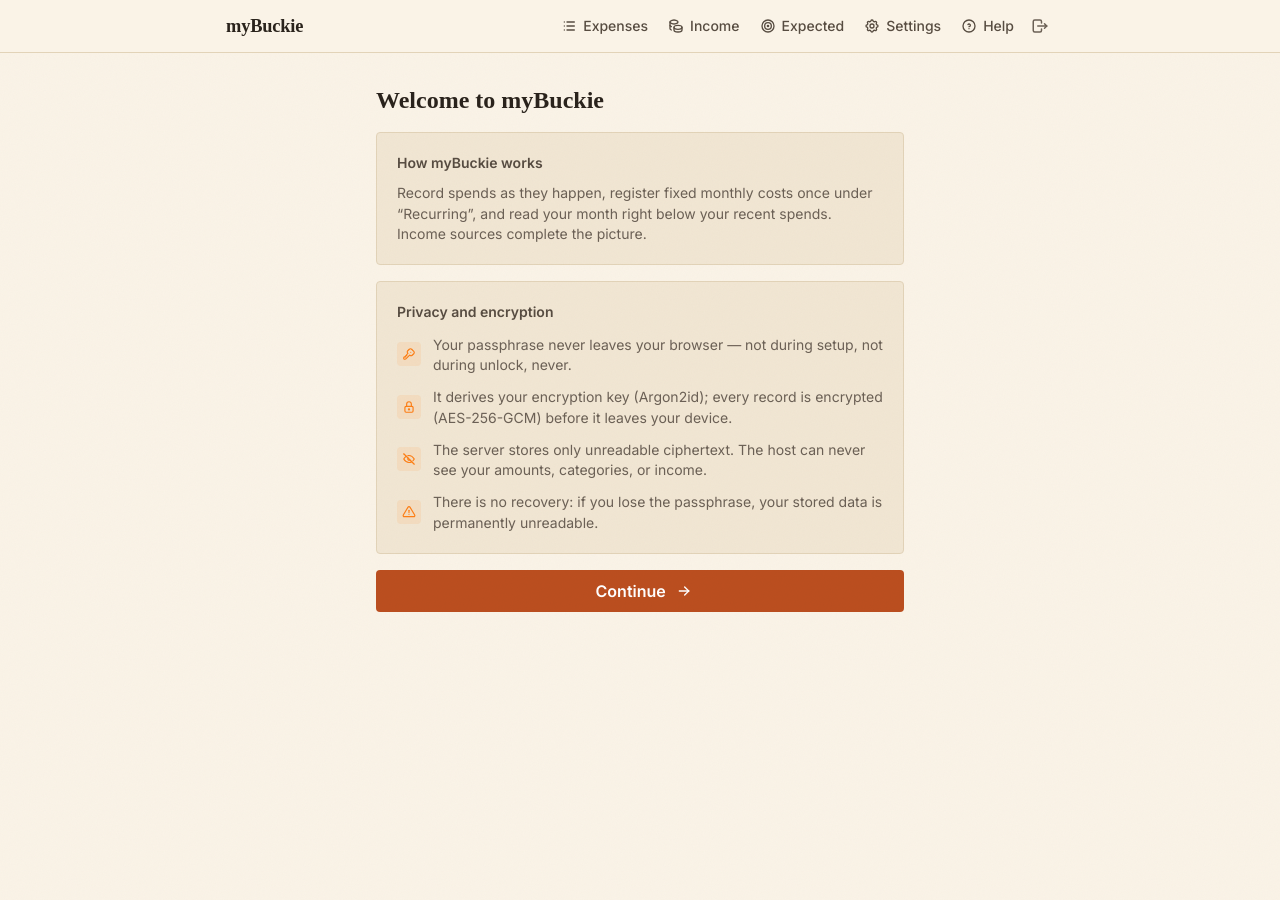
Test: Two-stage onboarding (BA-DS-006, TICKET-021) › explains how it works + privacy before income entry
Expected: the element named "onboarding" is shown, [376,87,904,612]
Expected: the text "Privacy and encryption" is shown, [397,303,554,320]
Click the button "Continue".
click(640, 591)  # box [376,570,904,612]
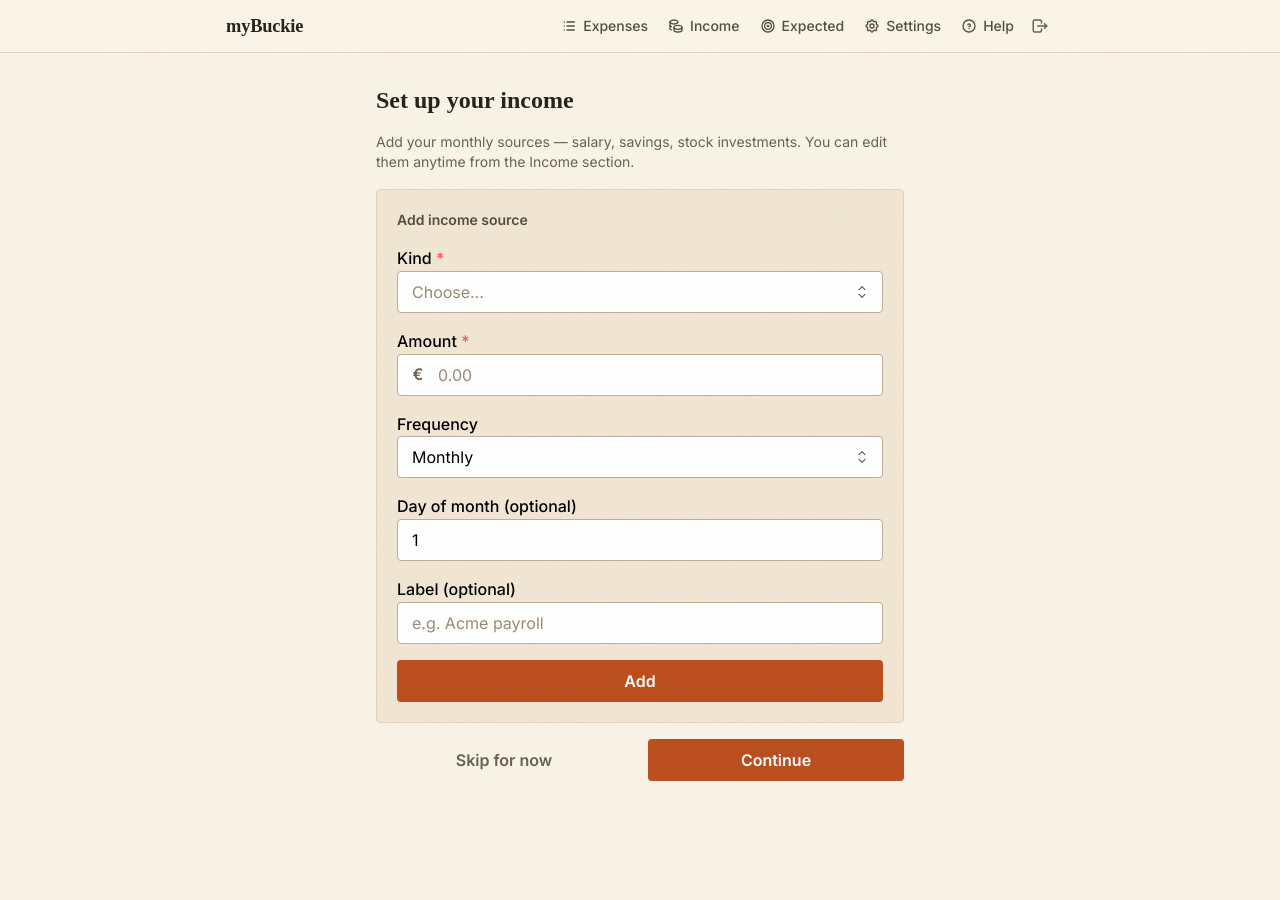
Expected: the form "Add income" is shown, [397,210,883,702]
